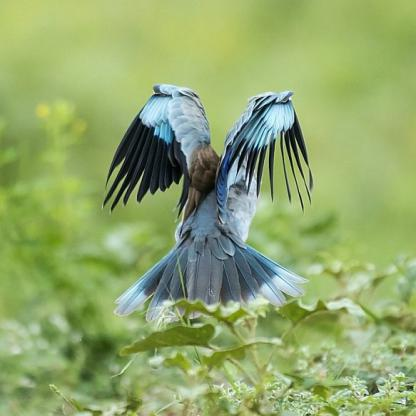Burung: (96, 80, 314, 314)
